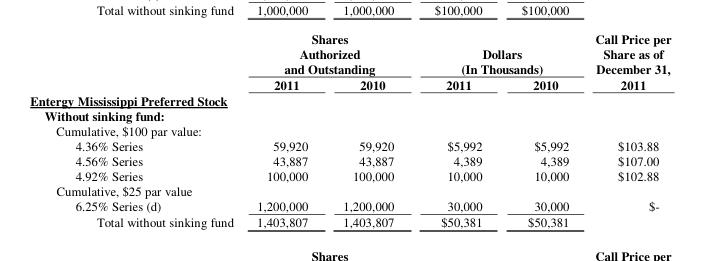table: (29, 29, 670, 229)
table column: (29, 29, 244, 229), (324, 29, 416, 229), (581, 29, 670, 229), (416, 29, 504, 229), (244, 29, 324, 229), (504, 29, 581, 229)
table column header: (29, 29, 670, 92)
table projected row header: (29, 92, 670, 107), (29, 107, 670, 122), (29, 122, 670, 137), (29, 182, 670, 197)
table row: (29, 29, 670, 76), (29, 76, 670, 92), (29, 197, 670, 213), (29, 213, 670, 229), (29, 92, 670, 107), (29, 107, 670, 122), (29, 122, 670, 137), (29, 137, 670, 152), (29, 152, 670, 167), (29, 167, 670, 182), (29, 182, 670, 197)
table spanning cell: (244, 29, 416, 76), (416, 29, 581, 76), (581, 29, 670, 92)
